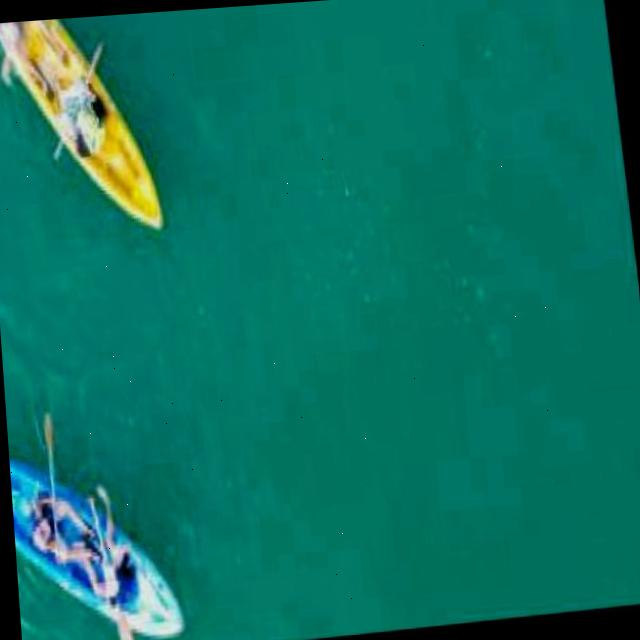kayak: (9, 413, 183, 640), (0, 17, 167, 228)
